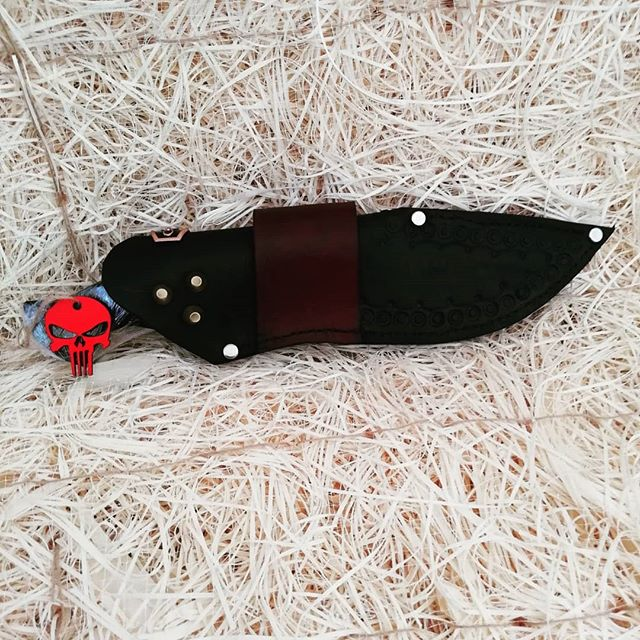knife: (13, 197, 625, 372)
